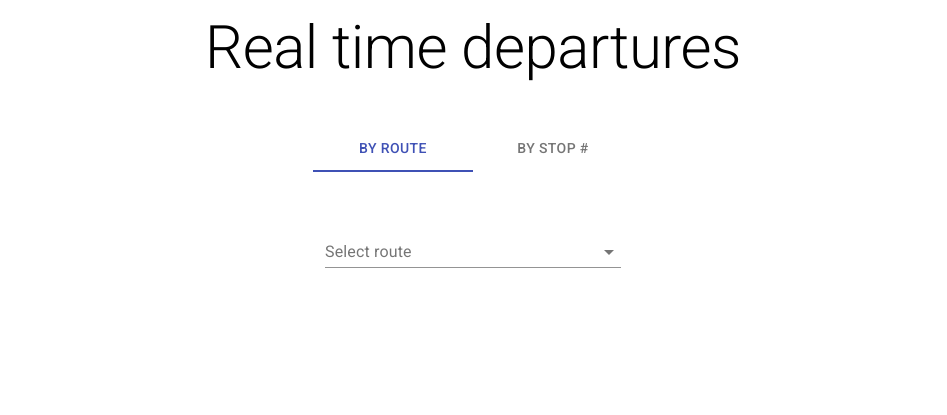
Test case: RealTimeDepartures › Searching by stop number › Renders message (and no departures table) when the submitted stop id does not exist
switch to By stop # tab
Click the tab "By stop #".
click(553, 148)  # box x1=473 y1=124 x2=633 y2=172
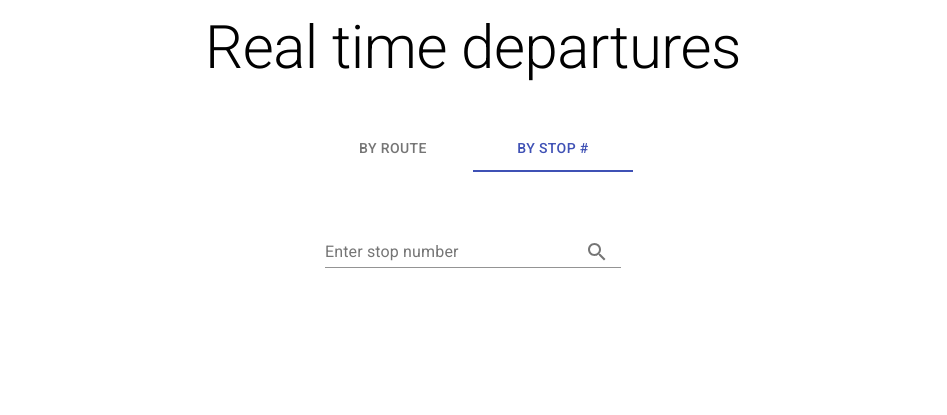
Type "5140" into the field labelled "Enter stop number".
click(445, 252); type("5140")  # box x1=325 y1=236 x2=565 y2=268
Then press Enter
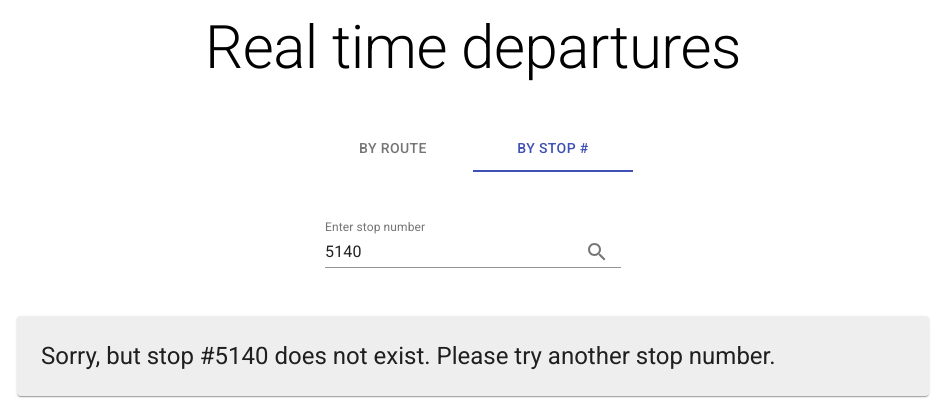
Now the heading "Sorry, but stop #5140 does not exist. Please try another stop number." is shown, box x1=41 y1=340 x2=776 y2=372
